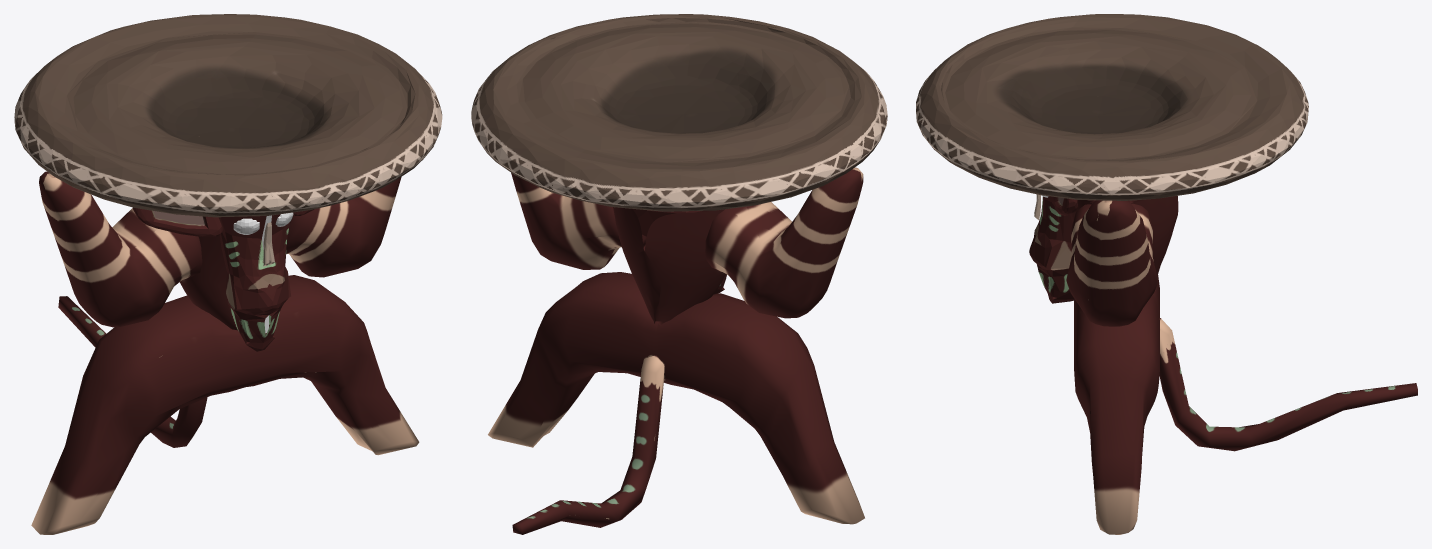
File: MonkeyRune.fbx
The picture shows the model from 3 angles, left to right: view 1: azimuth 30°, elevation 25°; view 2: azimuth 150°, elevation 25°; view 3: azimuth 270°, elevation 25°; orthographic projection. The views are drawn at different scales.
Visible parts, largest first — view 1: FaceMat, light; view 2: FaceMat; view 3: FaceMat.
Boxes of the visible parts, x1=… form: FaceMat: x1=14, y1=14, x2=442, y2=534; light: x1=233, y1=212, x2=293, y2=333; FaceMat: x1=471, y1=14, x2=887, y2=534; FaceMat: x1=916, y1=14, x2=1417, y2=534.
Bounding box in the file's own units: 396 × 394 × 494.
